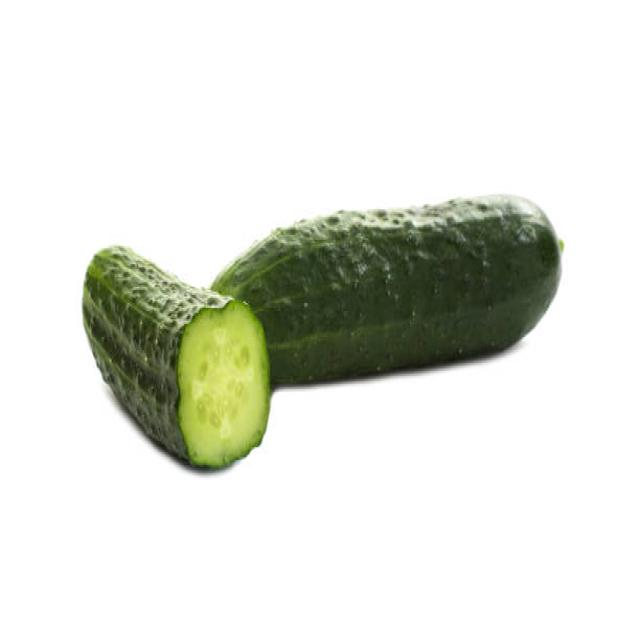cucumber: (212, 195, 561, 394), (81, 244, 270, 474)
